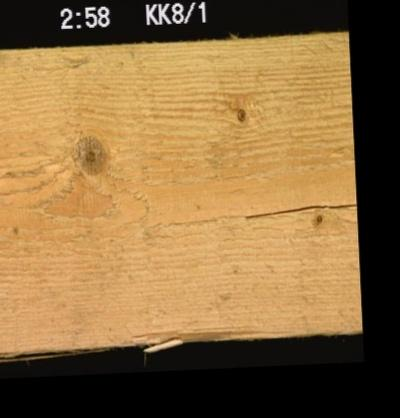dry_knot: (233, 105, 245, 122), (313, 211, 323, 222)
sound_knot: (75, 132, 105, 176)
split: (242, 203, 356, 215)
wave: (128, 326, 307, 350)
